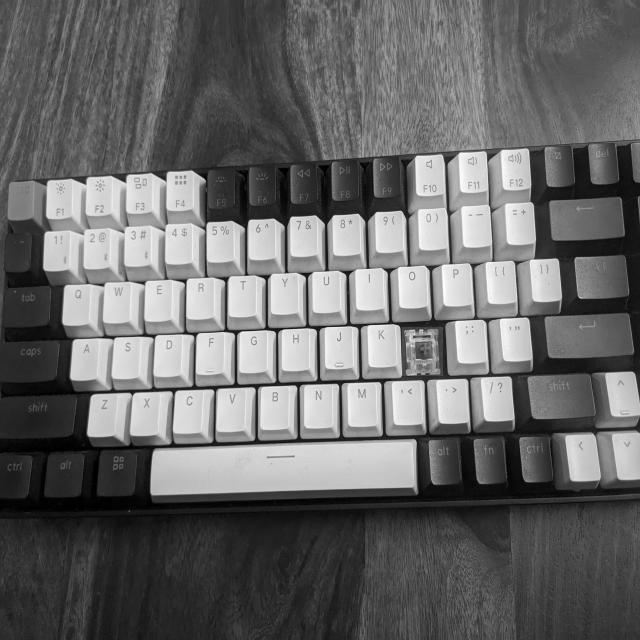C: (402, 327, 443, 376)
